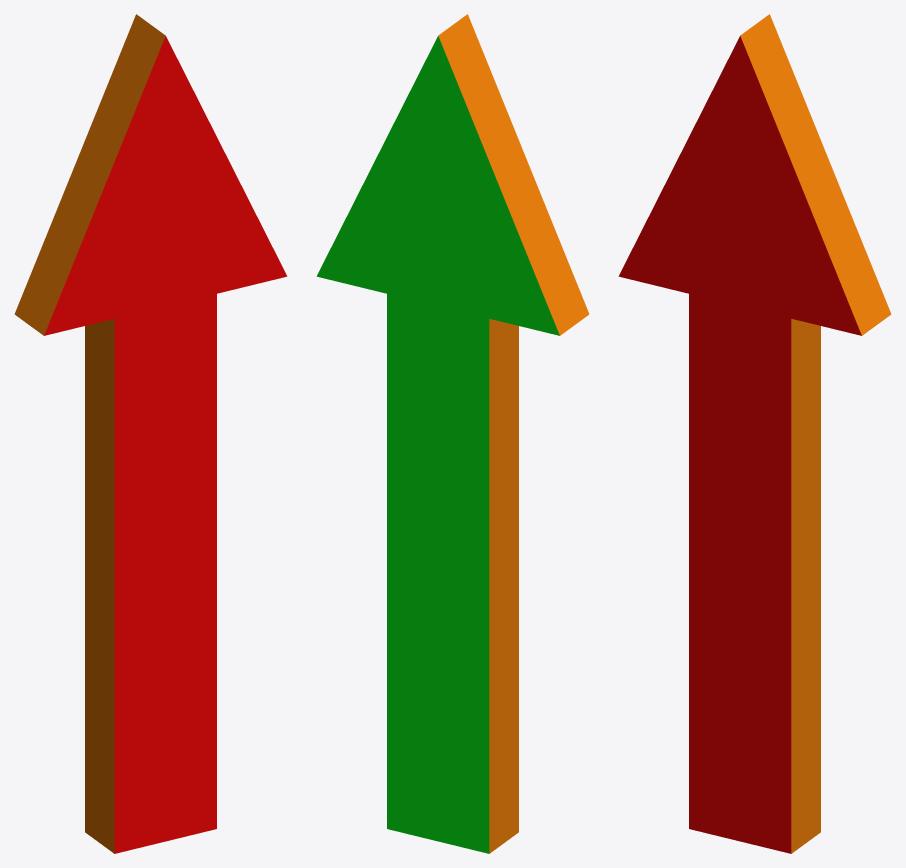
The model's file is Normal_DirectionMesh.FBX.
The picture shows the model from 3 angles, left to right: view 1: azimuth 30°, elevation 25°; view 2: azimuth 150°, elevation 25°; view 3: azimuth 330°, elevation 25°; orthographic projection.
Visible parts, largest first — view 1: Normal; view 2: Normal; view 3: Normal.
Boxes of the visible parts, bbox=[...] form: Normal: bbox=[14, 14, 287, 853]; Normal: bbox=[316, 14, 589, 853]; Normal: bbox=[618, 14, 891, 853].
Bounding box in the file's own units: 4.76 × 1 × 15.06.
